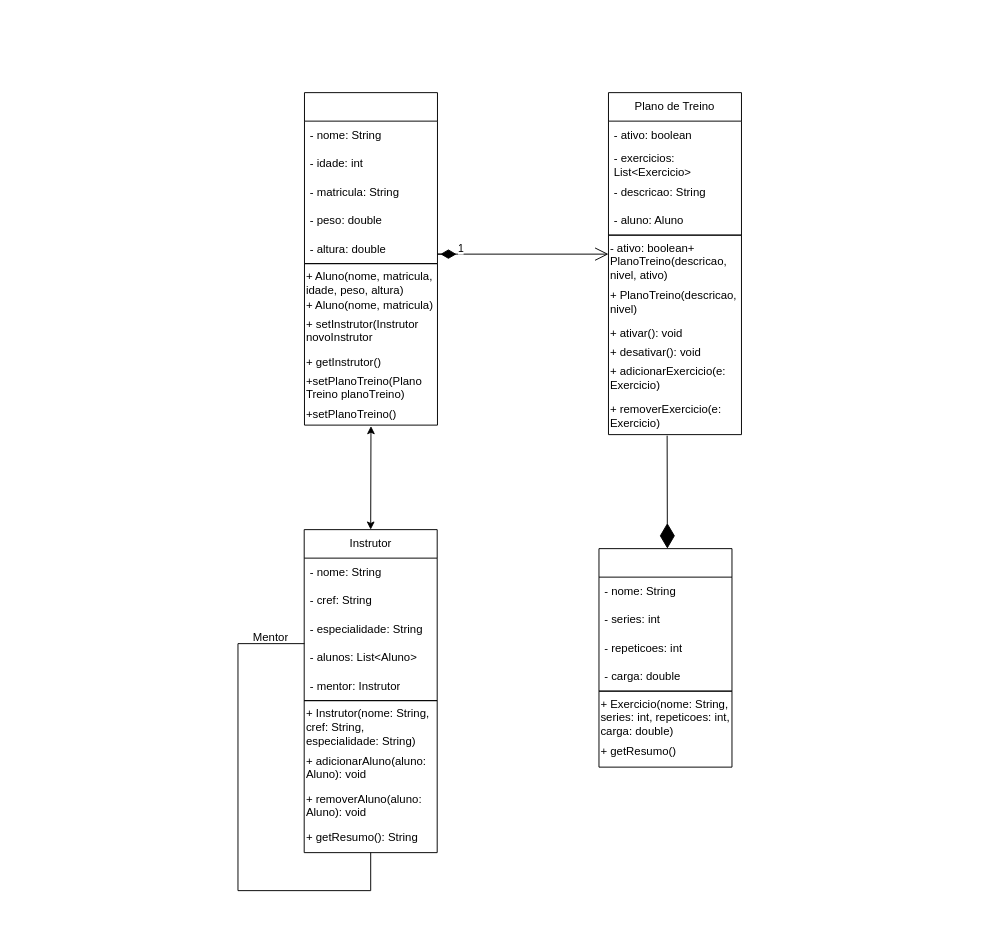
Some shapes in this 993 by 945 pixel diagram are drawn without their labels. Each missing label, with the box of its shape:
Aluno: (304, 92, 437, 264)
Exercicios: (598, 548, 732, 691)
